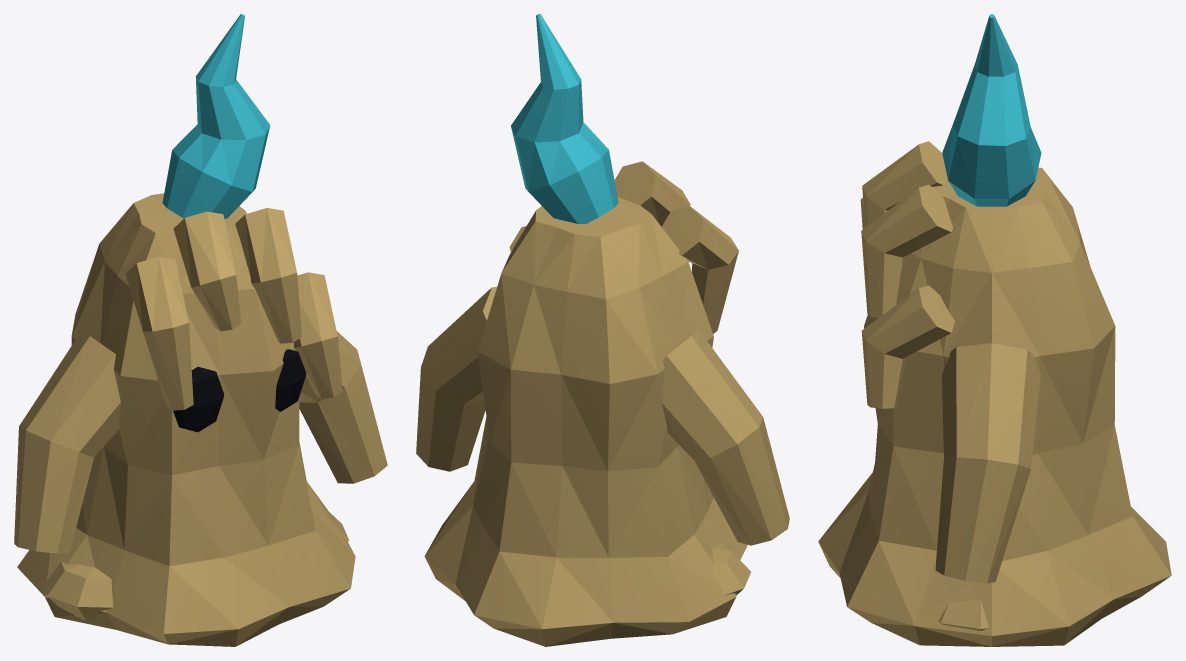
File: candle_wisp.fbx
3 views of the same model, side by side, from view 1: azimuth 30°, elevation 25°; view 2: azimuth 150°, elevation 25°; view 3: azimuth 270°, elevation 25° (orthographic). The views are drawn at different scales.
Parts seen in each view (by area): view 1: candle_wisp; view 2: candle_wisp; view 3: candle_wisp.
Boxes of the visible parts, x1,y1,x2,y2 form: candle_wisp: [14, 14, 387, 646]; candle_wisp: [416, 14, 789, 646]; candle_wisp: [818, 14, 1171, 646].
Bounding box in the file's own units: 2.07 × 3 × 1.61.
